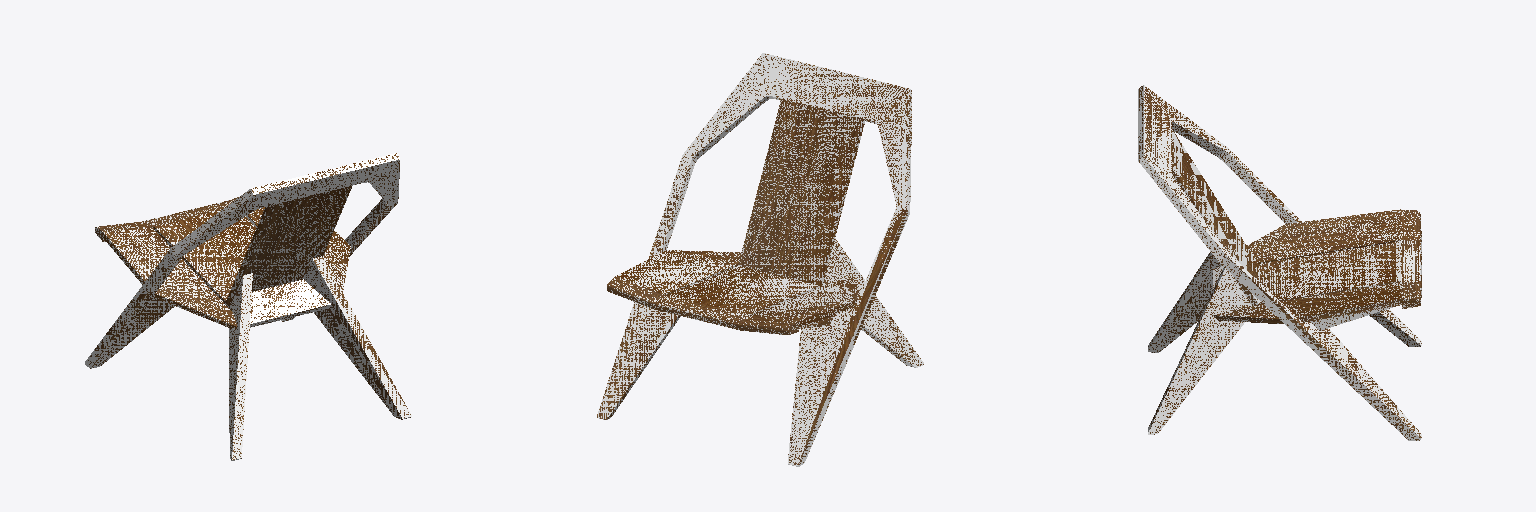
3 views of the same model, side by side, from view 1: azimuth 30°, elevation 25°; view 2: azimuth 150°, elevation 25°; view 3: azimuth 270°, elevation 25° (orthographic).
Parts seen in each view (by area): view 1: mesh6_mesh6-geometry, mesh8_mesh8-geometry, mesh15_mesh15-geometry, mesh14_mesh14-geometry, mesh17_mesh17-geometry, mesh5_mesh5-geometry, mesh1_mesh1-geometry; view 2: mesh8_mesh8-geometry, mesh15_mesh15-geometry, mesh17_mesh17-geometry, mesh5_mesh5-geometry, mesh1_mesh1-geometry, mesh6_mesh6-geometry, mesh14_mesh14-geometry; view 3: mesh8_mesh8-geometry, mesh6_mesh6-geometry, mesh17_mesh17-geometry, mesh14_mesh14-geometry, mesh5_mesh5-geometry, mesh15_mesh15-geometry, mesh1_mesh1-geometry.
Part boxes in pixels (left/top/right/bottom): mesh6_mesh6-geometry: left=229, top=256, right=411, bottom=460; mesh8_mesh8-geometry: left=85, top=153, right=399, bottom=368; mesh15_mesh15-geometry: left=225, top=186, right=351, bottom=307; mesh14_mesh14-geometry: left=103, top=227, right=236, bottom=329; mesh17_mesh17-geometry: left=154, top=210, right=255, bottom=303; mesh5_mesh5-geometry: left=246, top=207, right=350, bottom=291; mesh1_mesh1-geometry: left=95, top=197, right=238, bottom=241; mesh8_mesh8-geometry: left=597, top=53, right=911, bottom=466; mesh15_mesh15-geometry: left=738, top=99, right=864, bottom=287; mesh17_mesh17-geometry: left=667, top=266, right=818, bottom=315; mesh5_mesh5-geometry: left=617, top=250, right=740, bottom=294; mesh1_mesh1-geometry: left=607, top=276, right=799, bottom=334; mesh6_mesh6-geometry: left=823, top=238, right=923, bottom=367; mesh14_mesh14-geometry: left=752, top=278, right=859, bottom=326; mesh8_mesh8-geometry: left=1138, top=85, right=1421, bottom=440; mesh6_mesh6-geometry: left=1148, top=252, right=1251, bottom=434; mesh17_mesh17-geometry: left=1258, top=241, right=1400, bottom=304; mesh14_mesh14-geometry: left=1247, top=209, right=1400, bottom=263; mesh5_mesh5-geometry: left=1213, top=282, right=1401, bottom=323; mesh15_mesh15-geometry: left=1172, top=129, right=1258, bottom=305; mesh1_mesh1-geometry: left=1401, top=209, right=1421, bottom=308.
Bounding box in the file's own units: 0.5312 × 0.6142 × 0.5836.
4 materials, 2 textured.